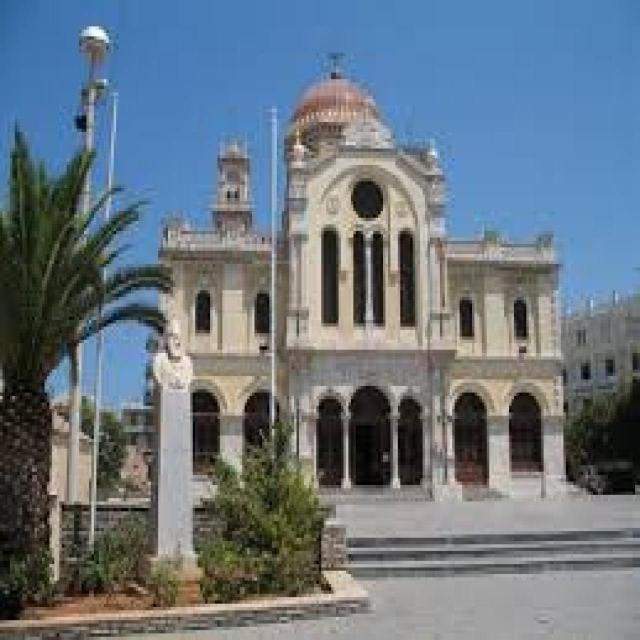Agios Minas: (151, 3, 581, 501)
